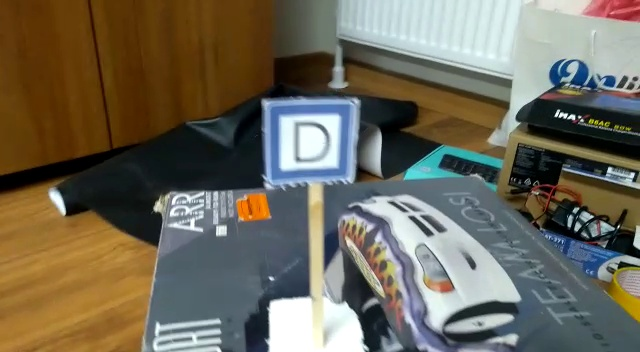durak: (267, 99, 350, 177)
